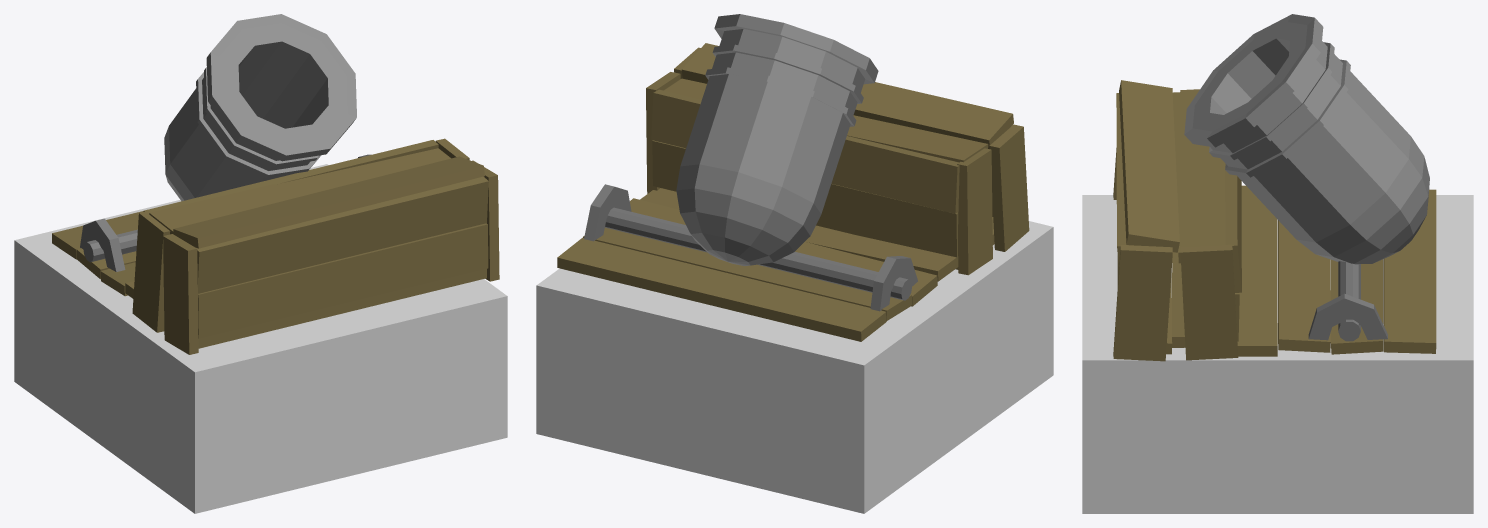
File: MortarTowerLevel1V01.fbx
3 renders of one model, left to right at view 1: azimuth 30°, elevation 25°; view 2: azimuth 150°, elevation 25°; view 3: azimuth 270°, elevation 25°, orthographic. The views are drawn at different scales.
Parts seen in each view (by area): view 1: MortarTowerLvl1V01; view 2: MortarTowerLvl1V01; view 3: MortarTowerLvl1V01.
Part boxes in pixels (x1,y1,x2,y2): MortarTowerLvl1V01: (14,14,507,513); MortarTowerLvl1V01: (536,14,1053,513); MortarTowerLvl1V01: (1082,14,1473,513).
Size of the model in its own units: 4.11 by 4.63 by 4.
